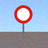sign: (14, 5, 32, 38)
